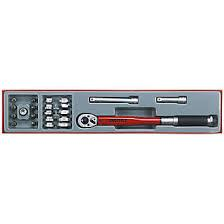wrench: (74, 110, 218, 130)
